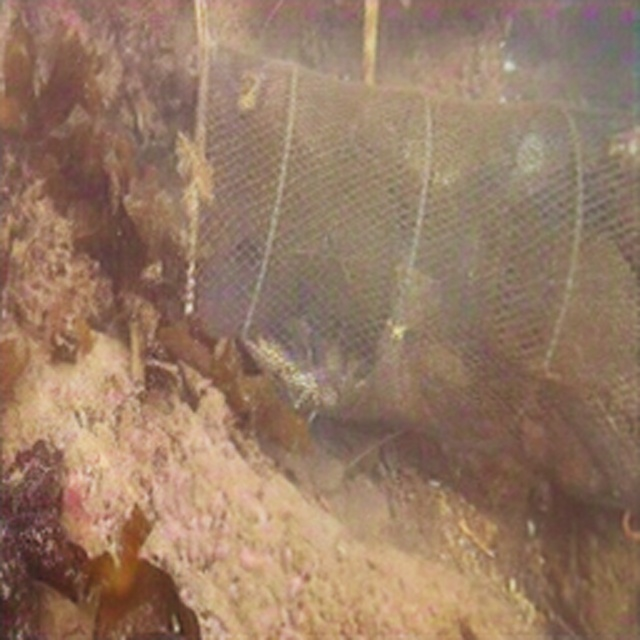mine: (183, 37, 640, 507)
